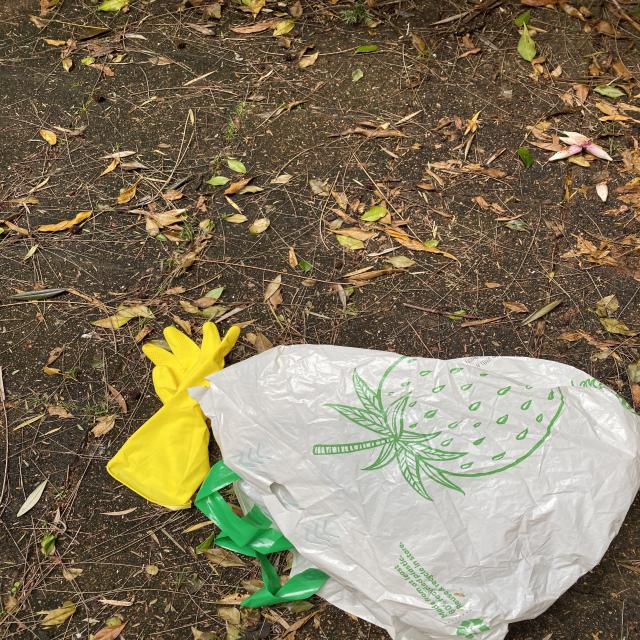bag: (190, 343, 640, 640)
glove: (107, 320, 243, 510)
